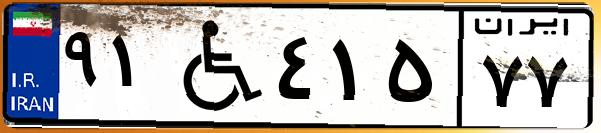1: (330, 28, 385, 110), (110, 28, 158, 98)
4: (270, 28, 330, 110)
5: (385, 28, 445, 110)
7: (475, 38, 525, 113), (525, 38, 570, 115)
9: (57, 26, 110, 100)
ژ (معلولین و جانبازان): (158, 12, 270, 120)
